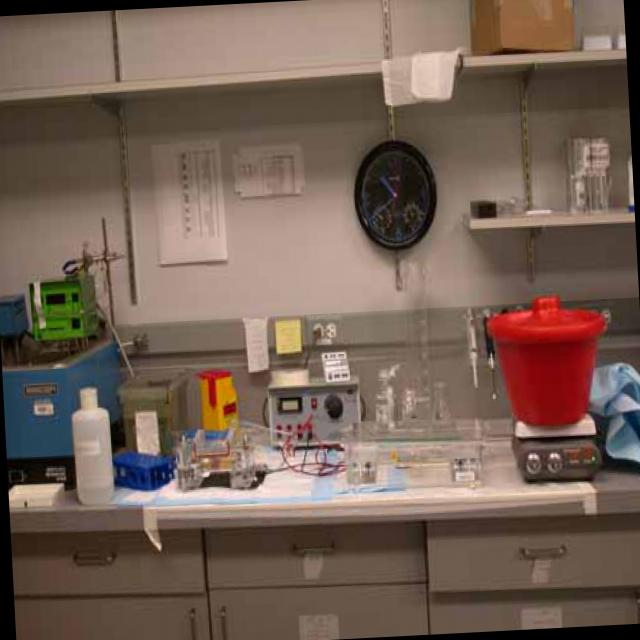bottle crop: (75, 384, 118, 506)
bucket crop: (487, 295, 607, 424)
clock crop: (355, 139, 439, 247)
cupboard crop: (9, 441, 640, 640)
equipment: (3, 266, 138, 484), (270, 365, 361, 445), (509, 411, 603, 478)
paper cup with straws: (150, 138, 230, 262), (234, 139, 308, 195)
shelf crop: (0, 45, 624, 109), (464, 206, 633, 227)
